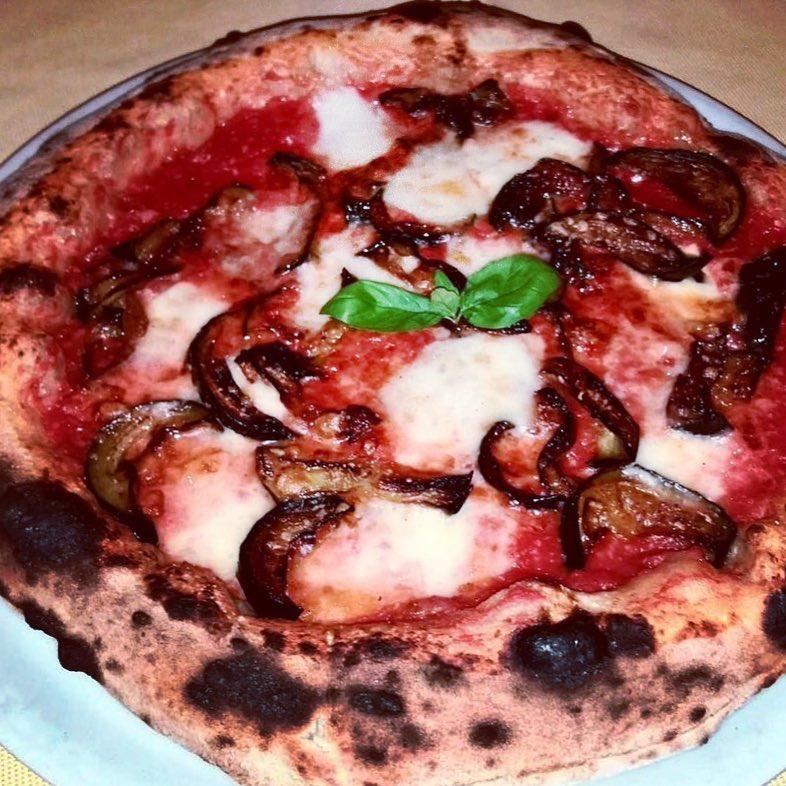Basil: (327, 257, 563, 332)
Pizza: (0, 0, 786, 786)
